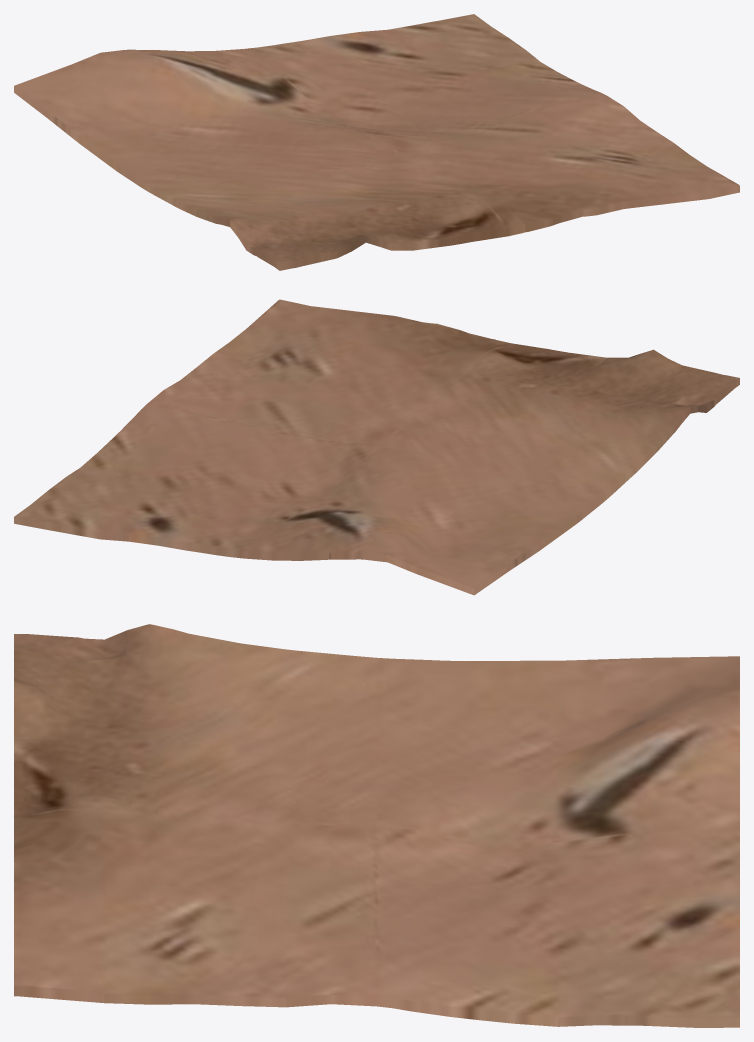
3 renders of one model, top to bottom at view 1: azimuth 30°, elevation 25°; view 2: azimuth 150°, elevation 25°; view 3: azimuth 270°, elevation 25°, orthographic. The views are drawn at different scales.
Size of the model in its own units: 1 by 0.1473 by 1.
1 material, 1 textured.
